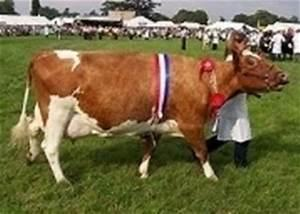cow: (10, 29, 289, 185)
